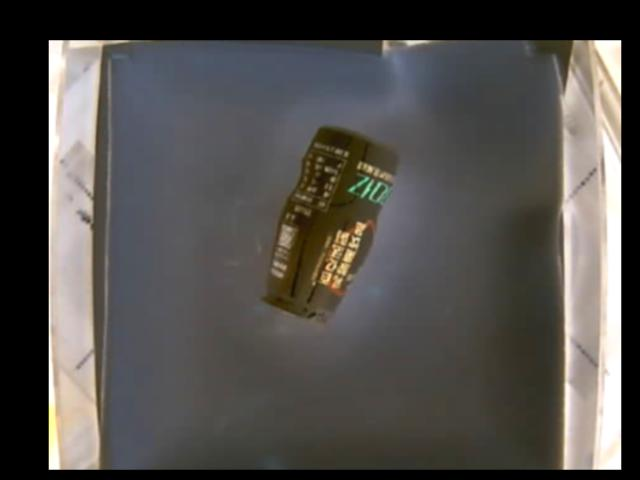Bottle: (259, 121, 399, 324)
